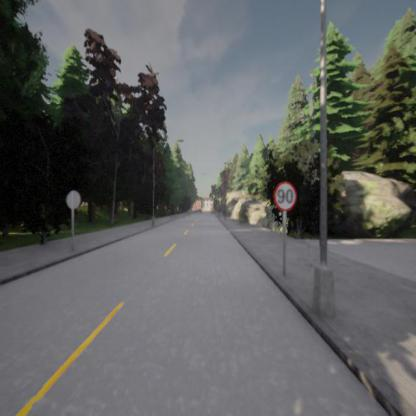traffic_sign_90: (272, 181, 297, 212)
